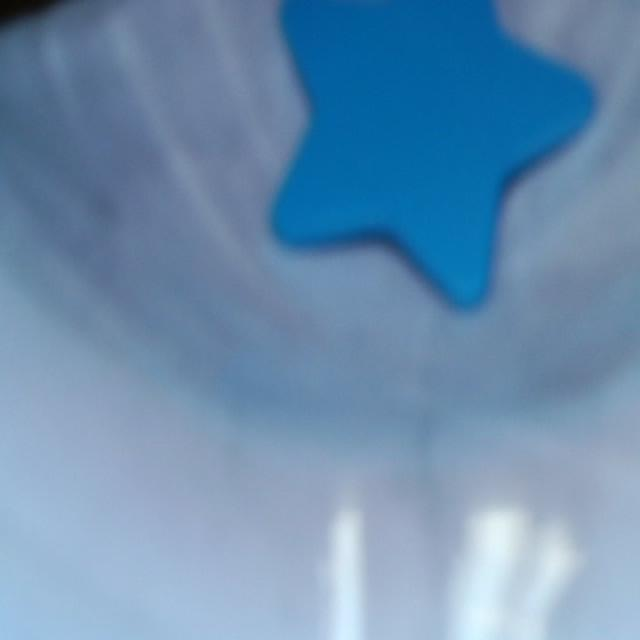star: (272, 0, 596, 307)
